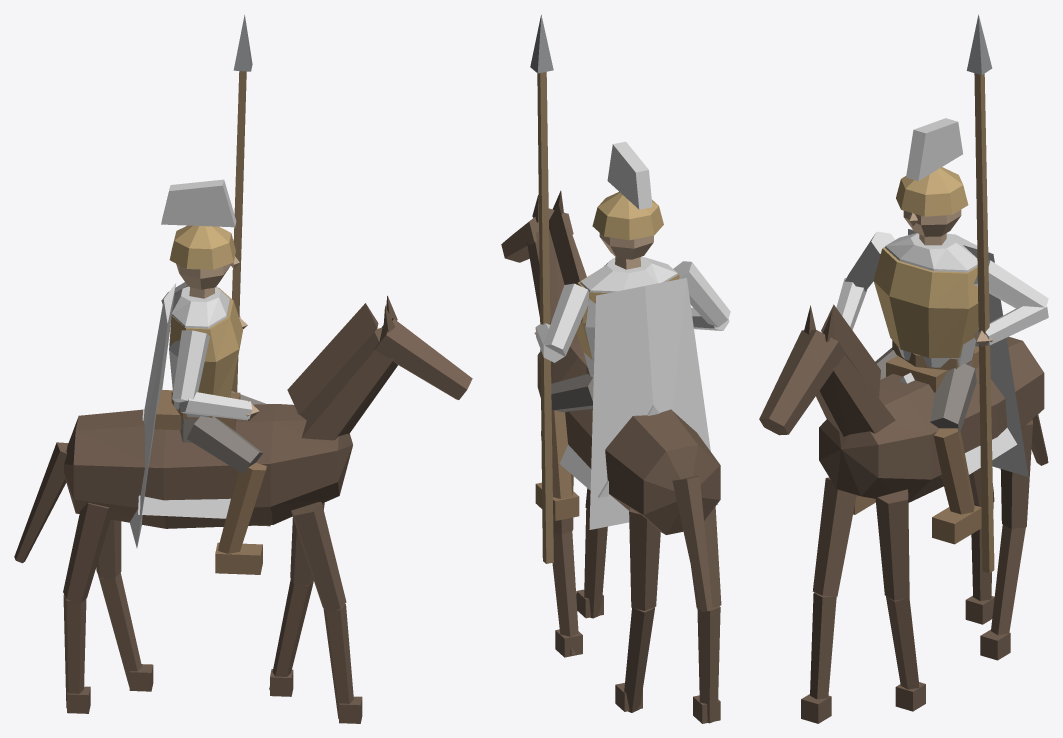
Rendered from companion-cavalry.glb.
3 views of the same model, side by side, from view 1: azimuth 30°, elevation 25°; view 2: azimuth 150°, elevation 25°; view 3: azimuth 270°, elevation 25° (orthographic). The views are drawn at different scales.
Visible parts, largest first — view 1: LOD0; view 2: LOD0; view 3: LOD0.
Part boxes in pixels (x1,y1,x2,y2): LOD0: (14,15,472,723); LOD0: (501,15,730,723); LOD0: (759,14,1048,723).
Size of what is drawn, in the model's own units: 0.9264 by 1.75 by 0.6671.
